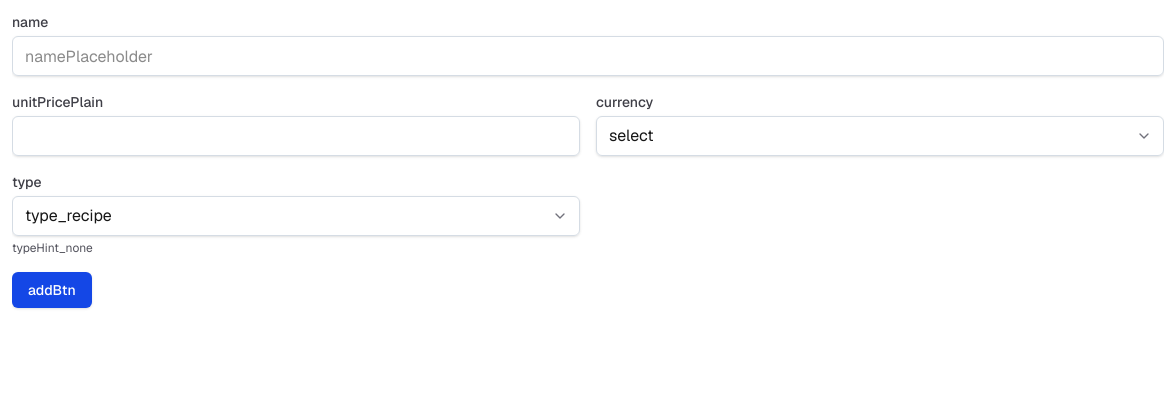
Test: CatalogForm guided combo and recipe kinds › restores the regular product fields when switching back from a preset
Step 1. Select "type_recipe" in the dropdown with id "type" → (296, 216), box left=12, top=196, right=580, bottom=236
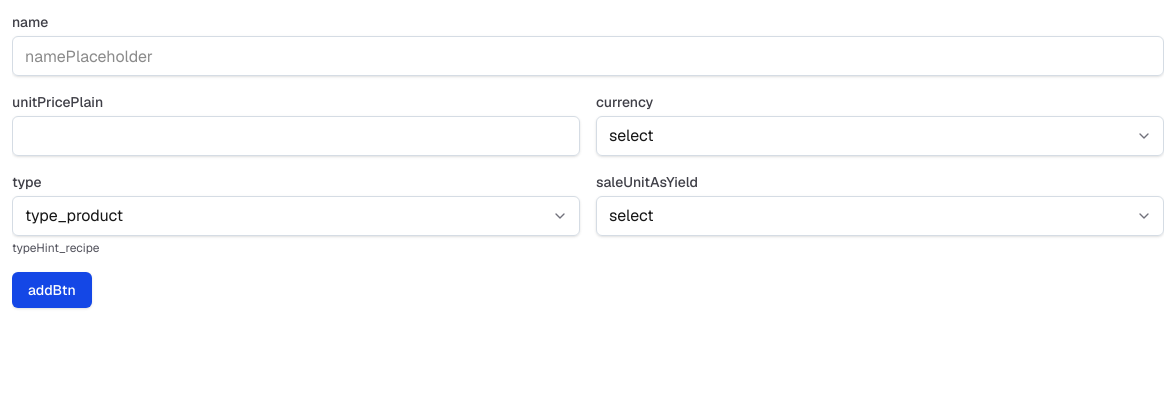
Step 2. Select "type_product" in the dropdown with id "type" → (296, 216), box left=12, top=196, right=580, bottom=236
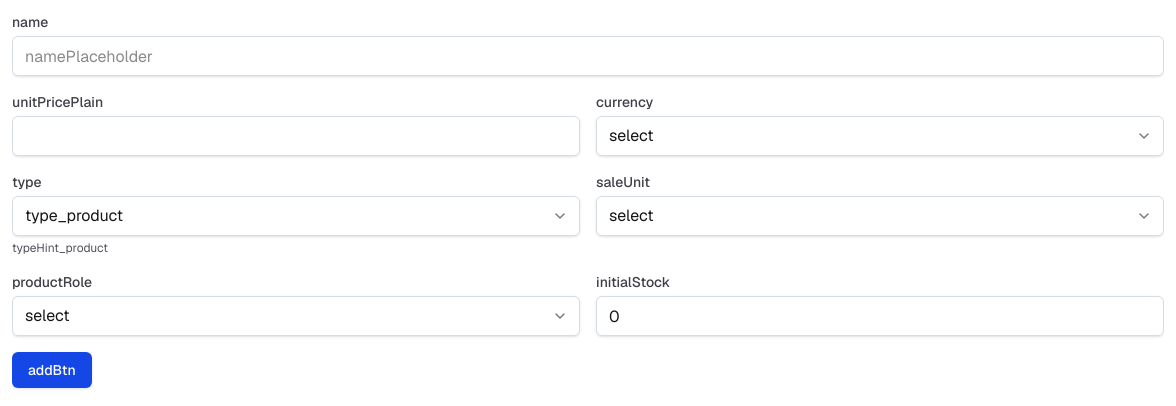
Now the dropdown with id "saleUnit" is shown, box left=596, top=196, right=1164, bottom=236
Now the dropdown labelled "productRole" is shown, box left=12, top=296, right=580, bottom=336
Now the number field with id "stock" is shown, box left=596, top=296, right=1164, bottom=336
